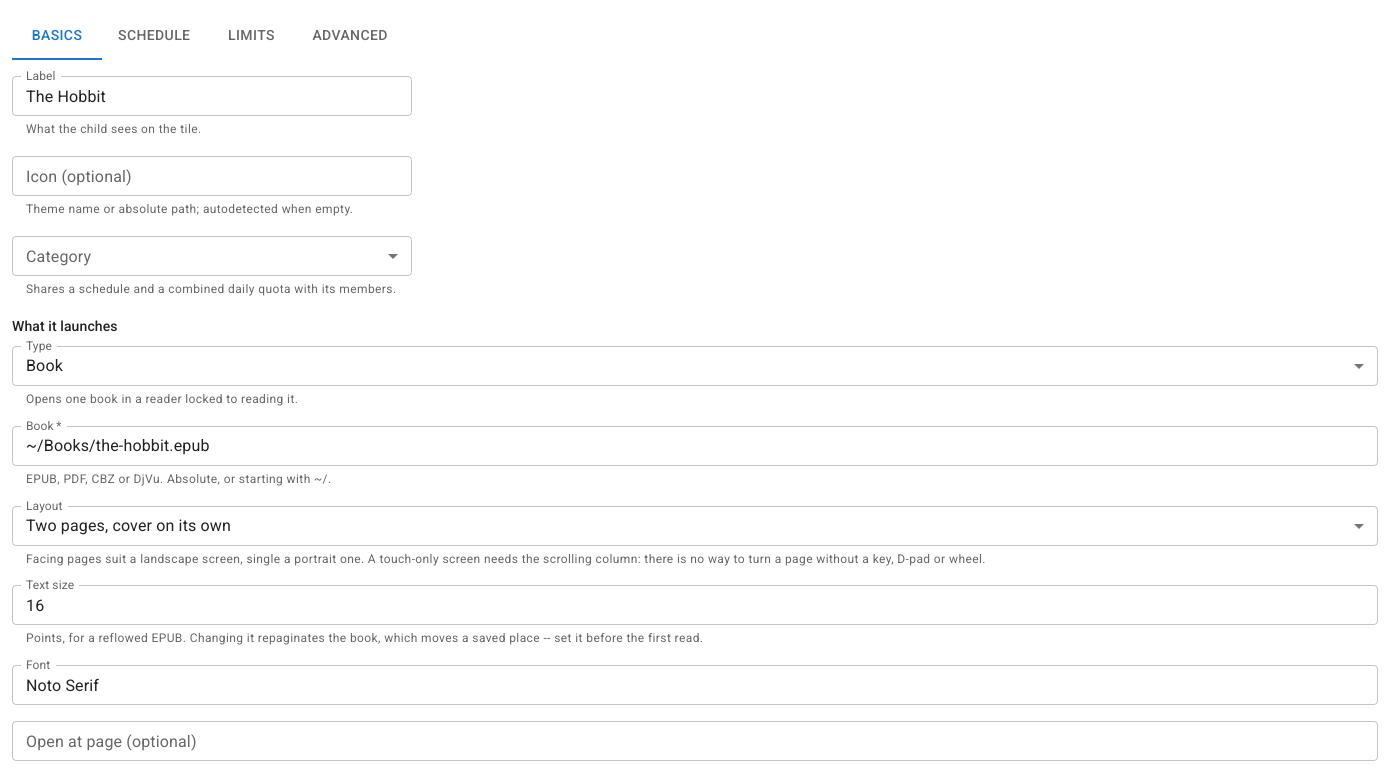
Scenario: typing into a path field › goes back to what the document says once it is left
Type "xyz" into the field labelled "Book *" at (695, 446), box 12,426 -> 1378,466
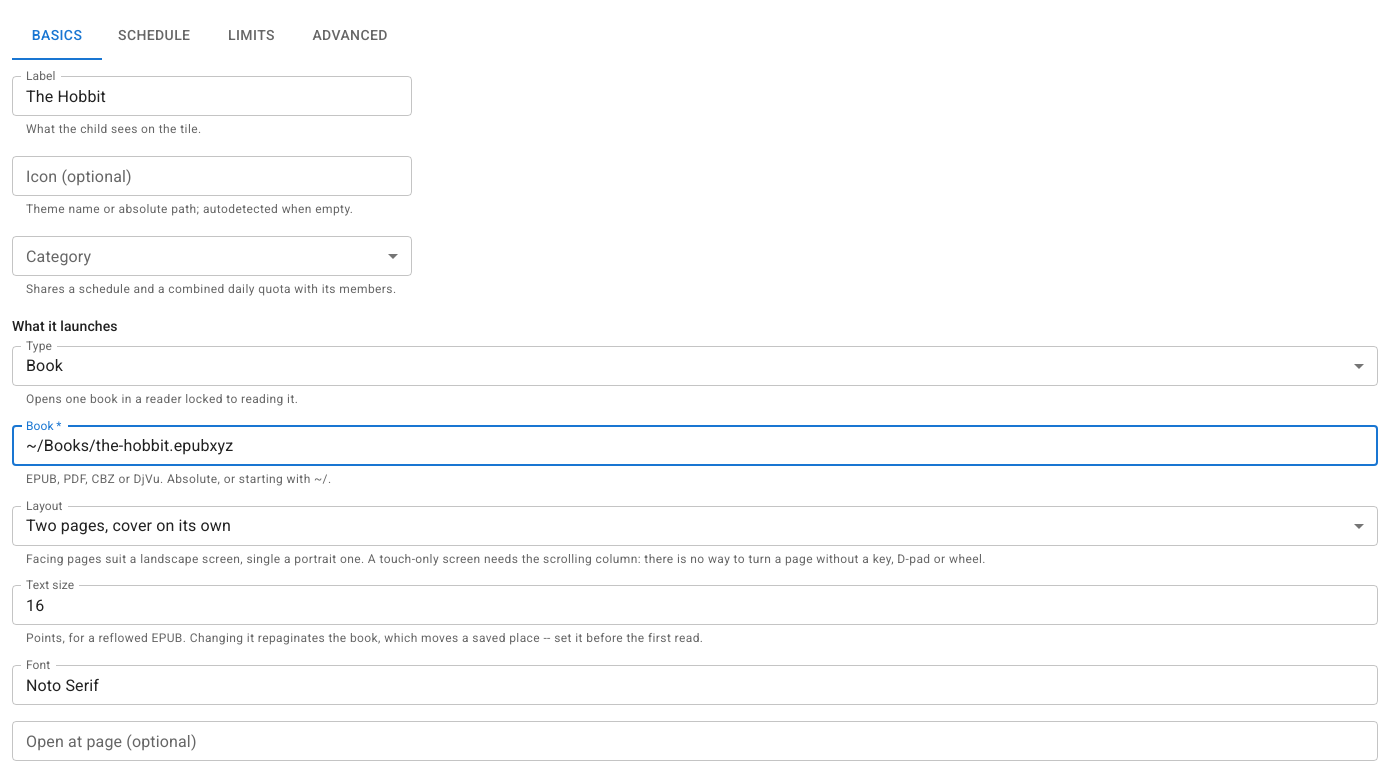
Press Tab
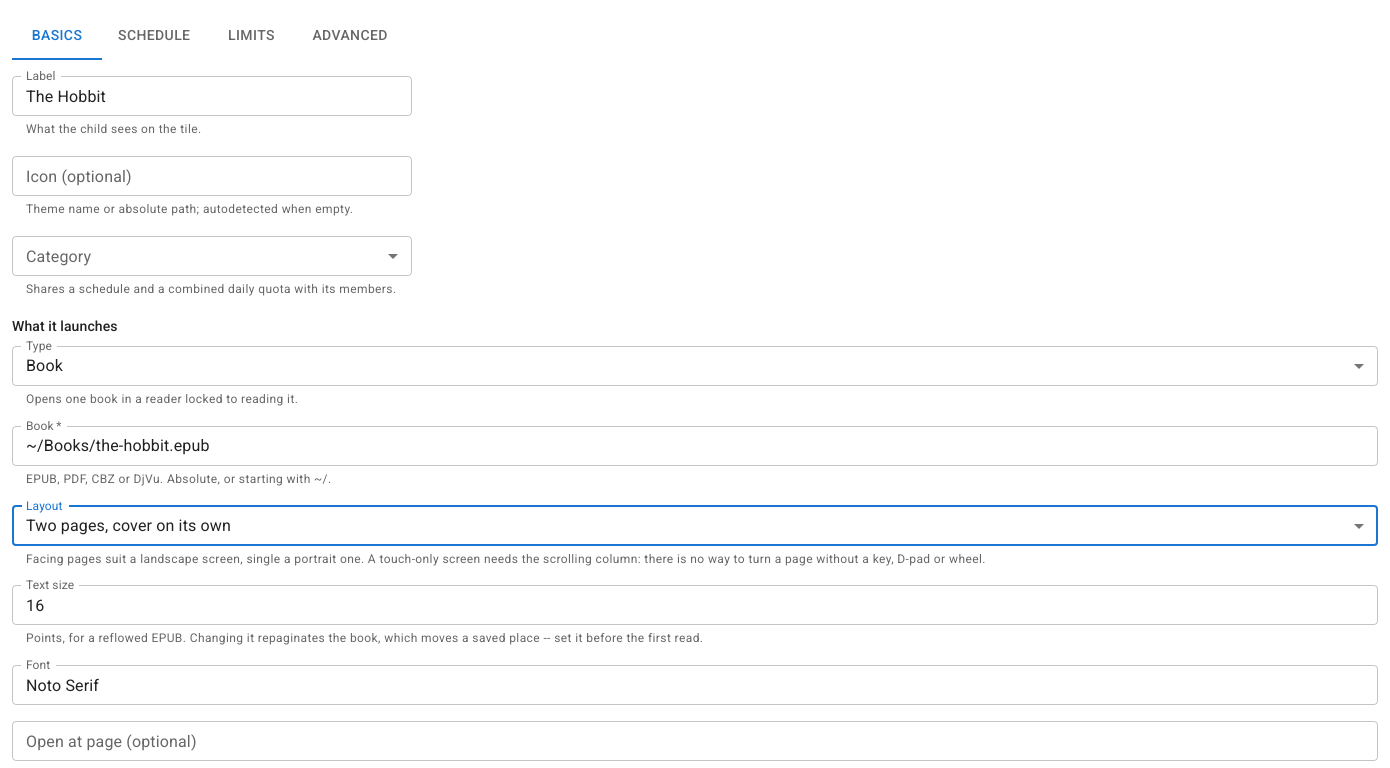
Now the field labelled "Book *" holds "~/Books/the-hobbit.epub", box 12,426 -> 1378,466
